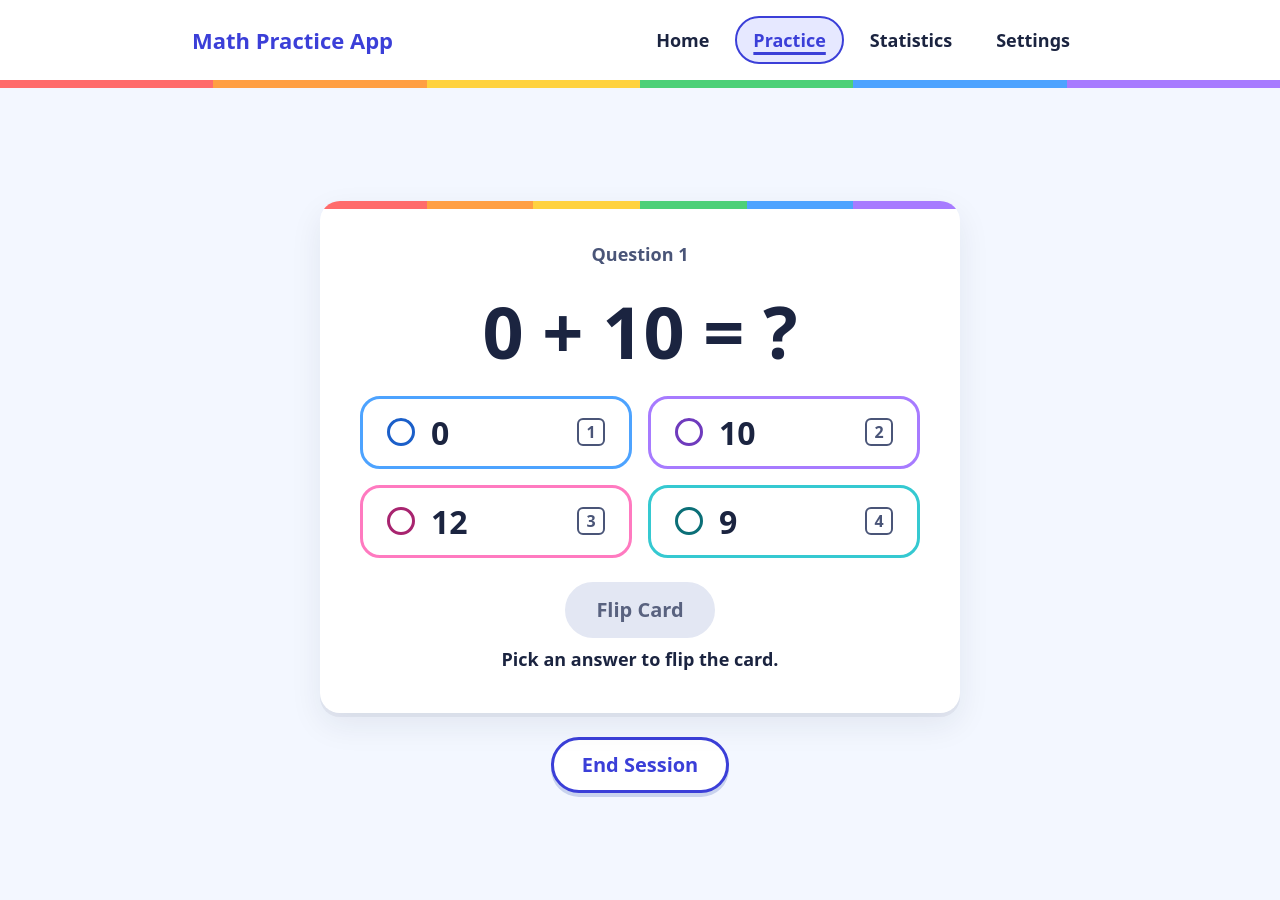
StorageWarning › when storage is full › warns during practice, and practice continues
Click the button "0 1".
click(401, 432)  # box [360,396,632,469]
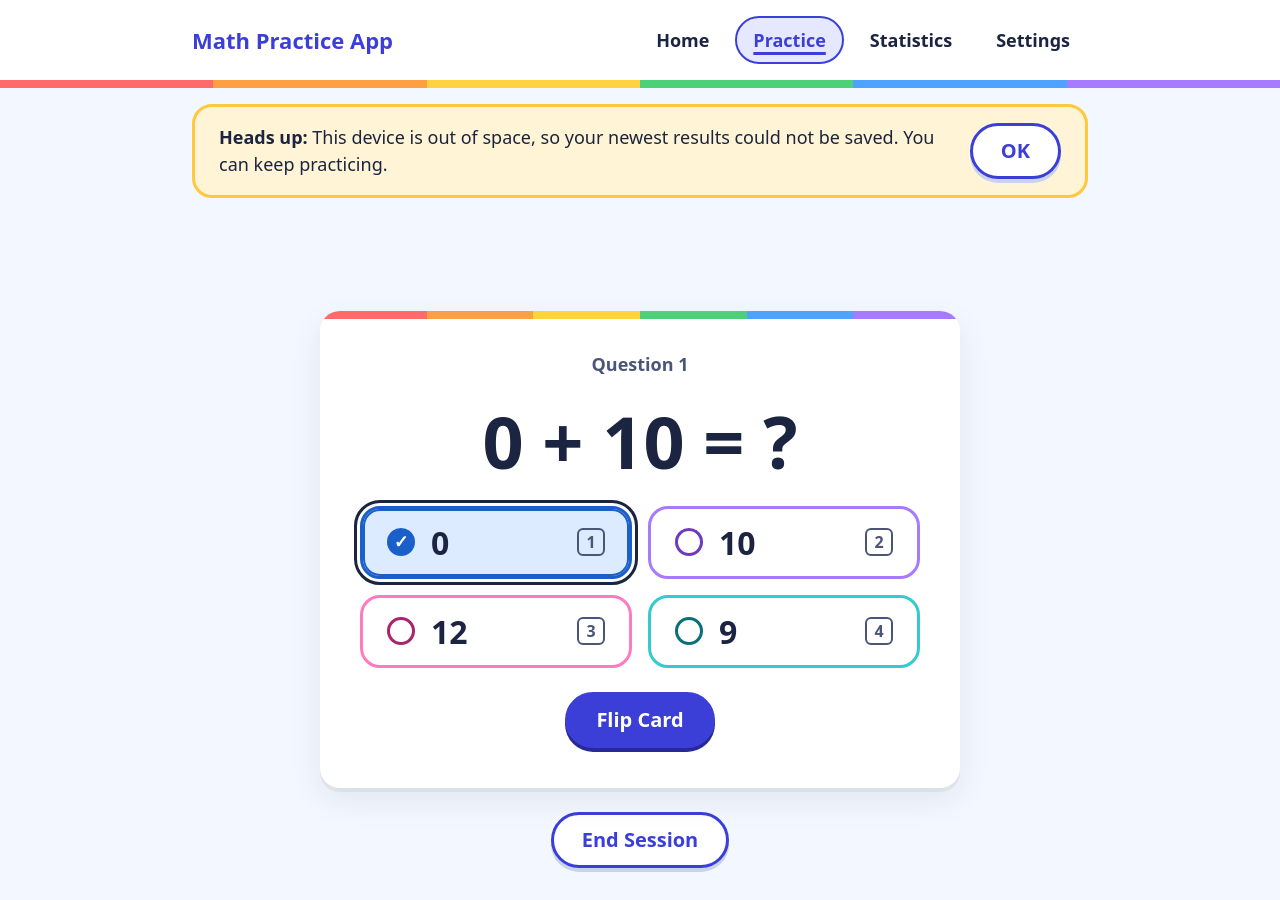
Click the button "Flip Card".
click(640, 720)  # box [565,692,715,748]
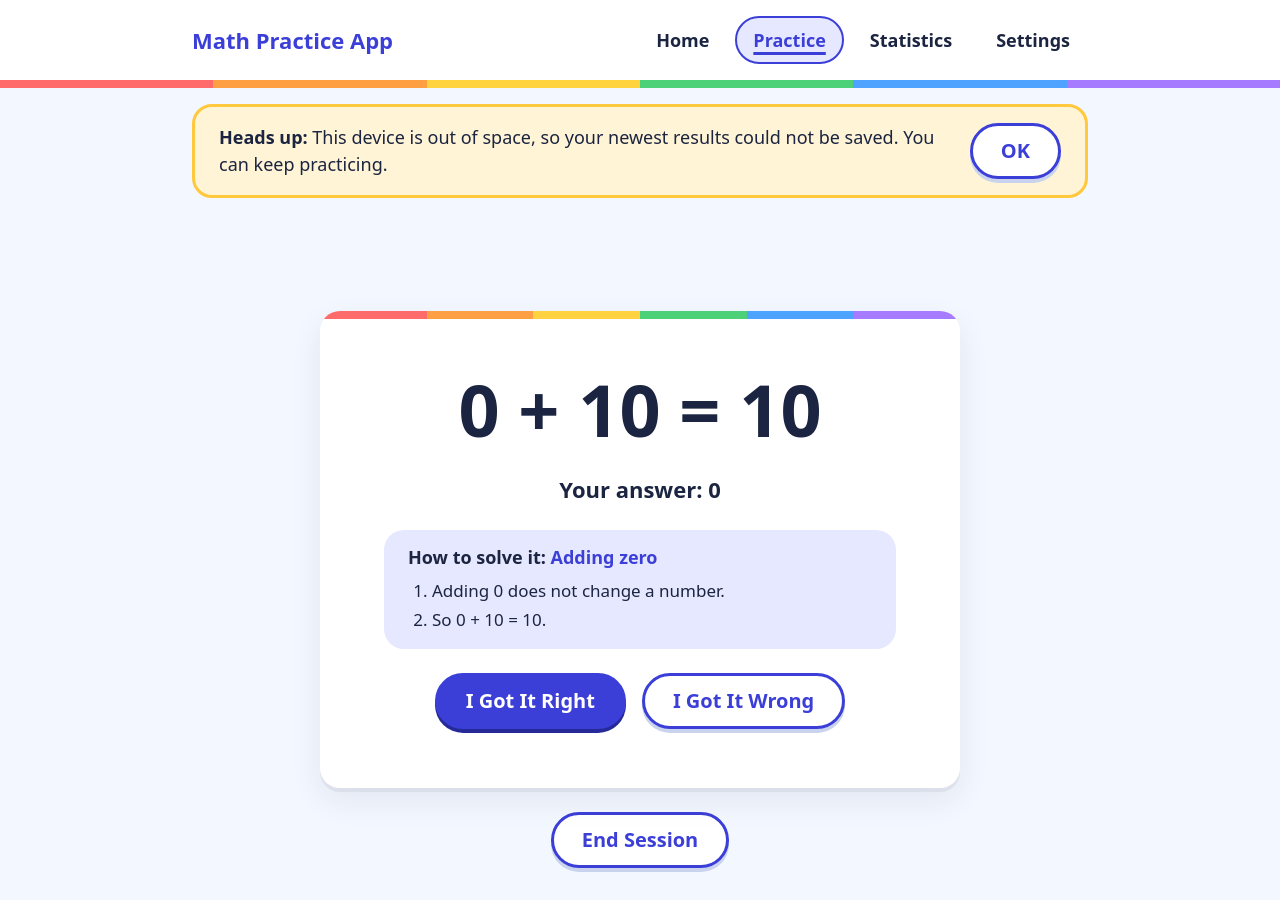
Click the button "I Got It Right".
click(530, 701)  # box [435,673,626,729]
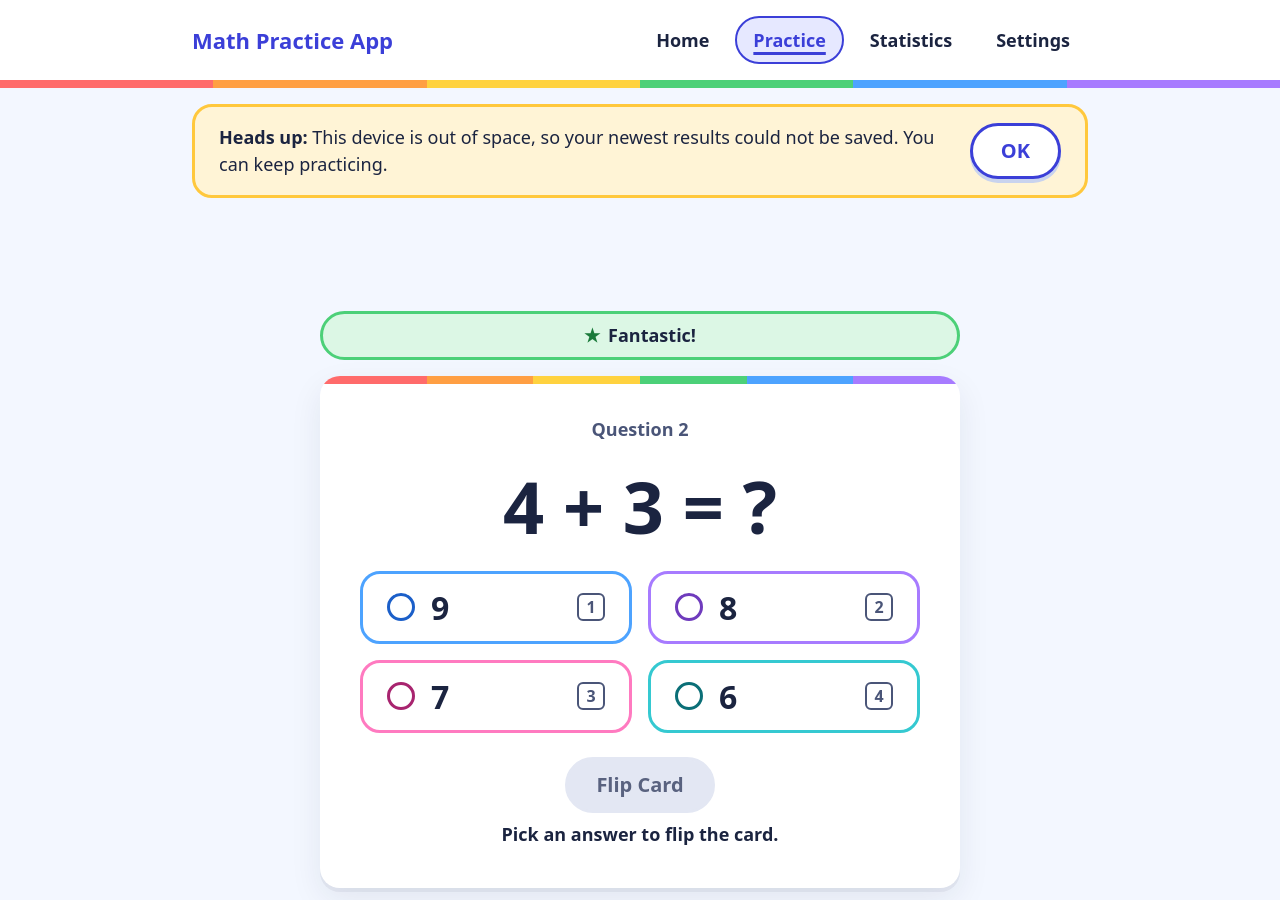
Expected: the message shows "out of space", [219,125,934,176]
Expected: the text "Question 2" is shown, [592,416,688,443]
